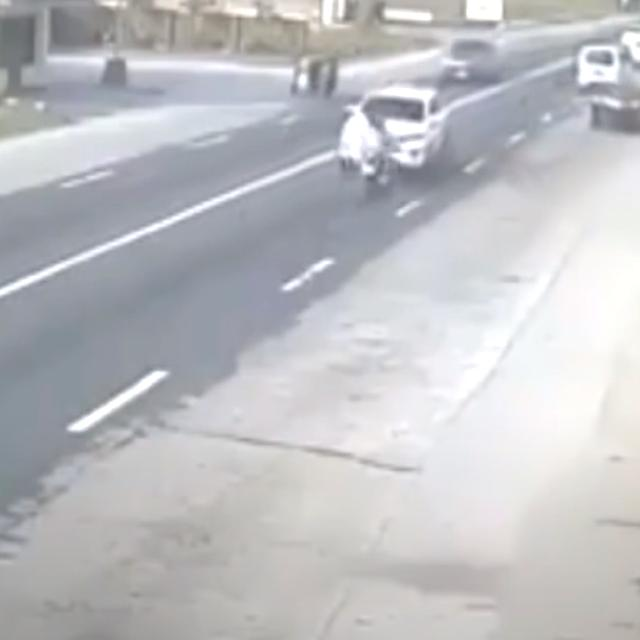accident: (334, 85, 448, 195)
